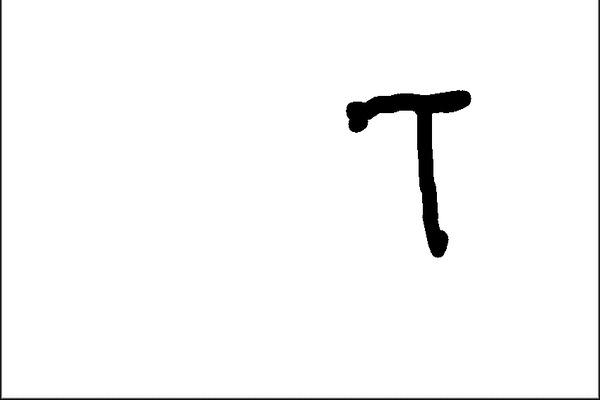T: (340, 82, 484, 260)
